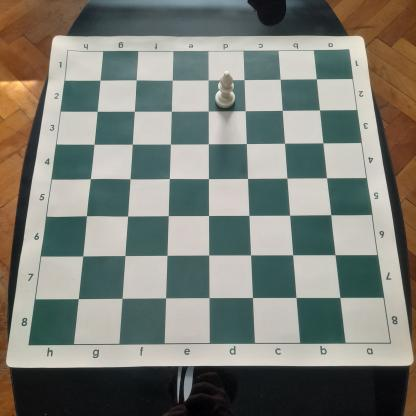white-bishop: (214, 70, 236, 109)
